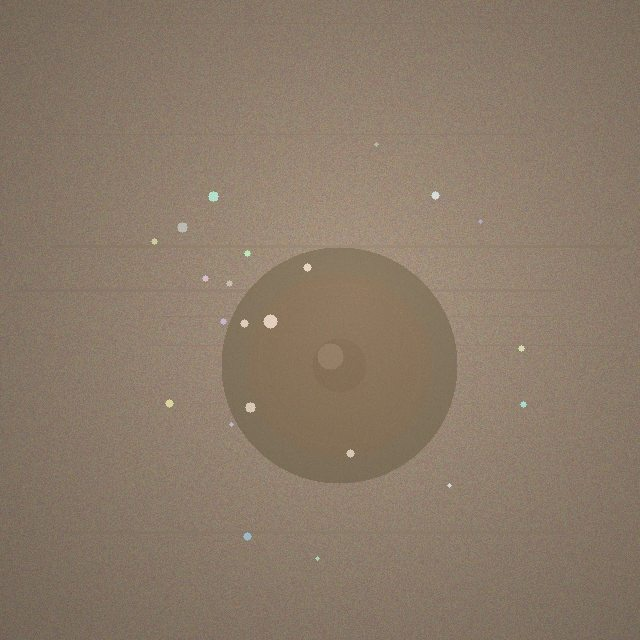overburn: (221, 247, 457, 483)
